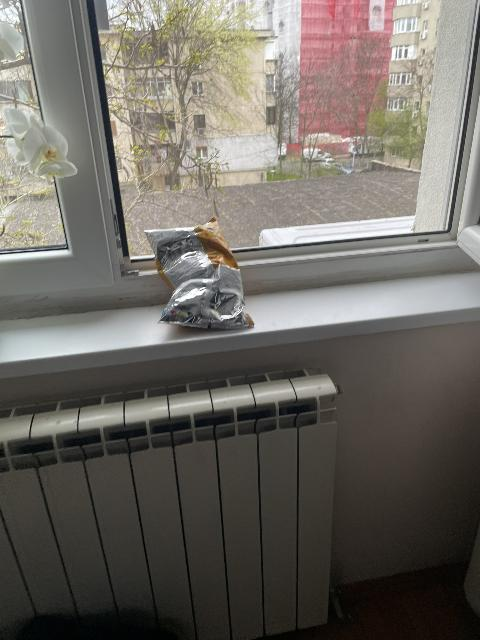Chio Hula Hoops Cheese 70g: (142, 217, 255, 328)
